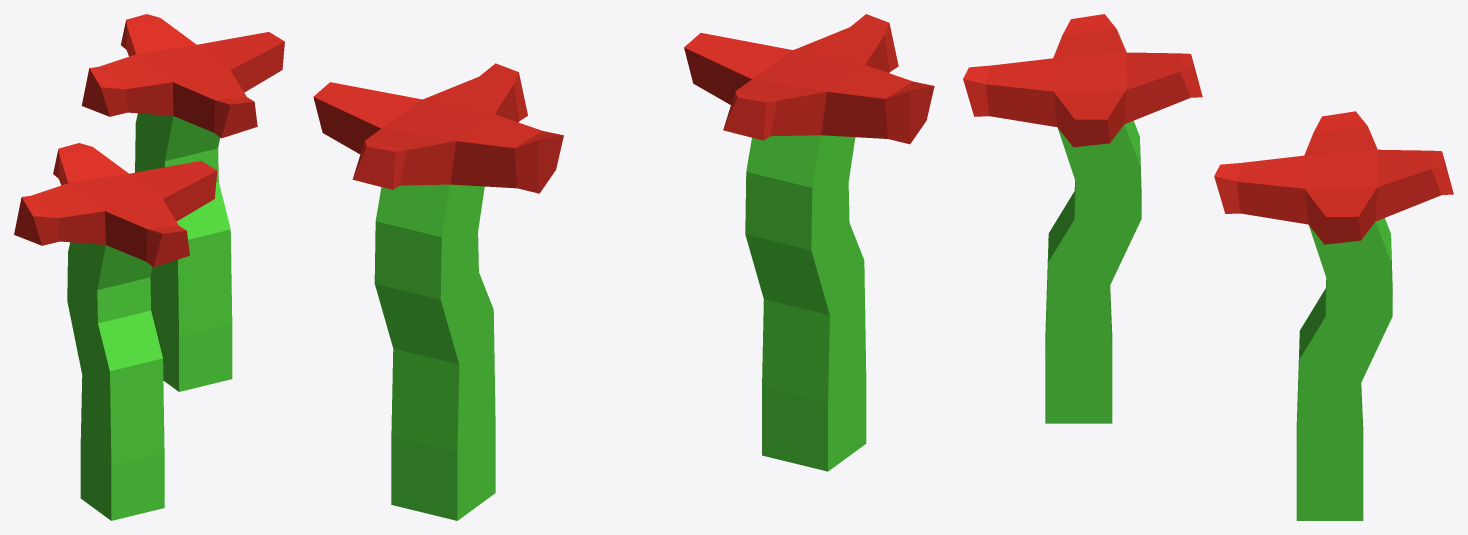
The model's file is flower_red_2.glb.
3 views of the same model, side by side, from view 1: azimuth 30°, elevation 25°; view 2: azimuth 150°, elevation 25°; view 3: azimuth 270°, elevation 25° (orthographic). The views are drawn at different scales.
Visible parts, largest first — view 1: Cube.001, Cube; view 2: Cube, Cube.001; view 3: Cube.001, Cube.
Boxes of the visible parts, x1=… form: Cube.001: x1=14, y1=143, x2=217, y2=520; Cube: x1=81, y1=14, x2=284, y2=391; Cube: x1=313, y1=63, x2=563, y2=520; Cube.001: x1=684, y1=14, x2=934, y2=471; Cube.001: x1=963, y1=14, x2=1202, y2=423; Cube: x1=1214, y1=111, x2=1453, y2=520.
Bounding box in the file's own units: 0.6944 × 0.5753 × 0.7338.
